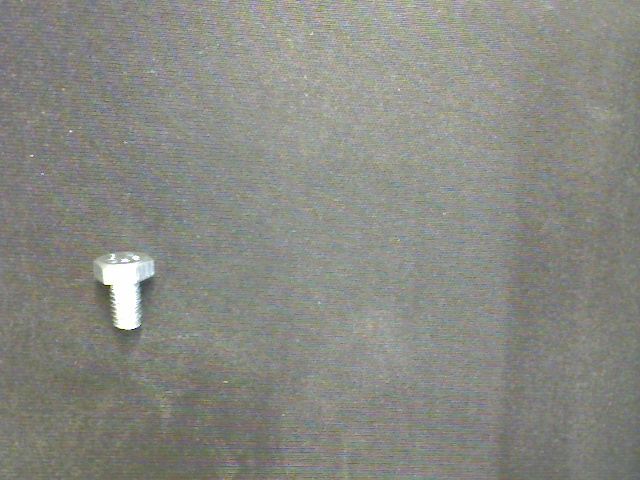screw: (91, 250, 156, 331)
